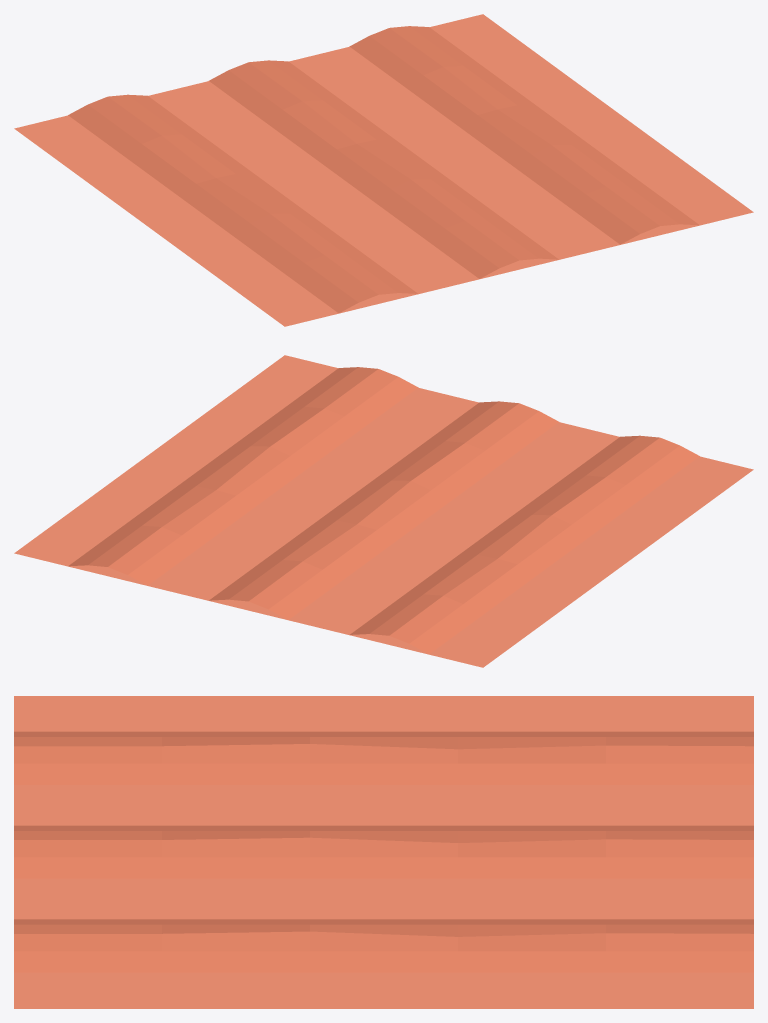
File: Soil Tile.fbx
3 views of the same model, one above another, from view 1: azimuth 30°, elevation 25°; view 2: azimuth 150°, elevation 25°; view 3: azimuth 270°, elevation 25° (orthographic). The views are drawn at different scales.
Parts seen in each view (by area): view 1: Plane, Plane.001, Plane.002; view 2: Plane, Plane.001, Plane.002; view 3: Plane, Plane.001, Plane.002.
Boxes of the visible parts, x1,y1,x2,y2 form: Plane: (14,14,753,326); Plane.001: (68,26,699,313); Plane.002: (209,60,558,278); Plane: (14,355,753,667); Plane.001: (68,367,699,654); Plane.002: (209,401,558,619); Plane: (14,696,753,1008); Plane.001: (14,731,753,972); Plane.002: (14,825,753,878).
Size of the model in its own units: 200 by 4.4 by 200.
